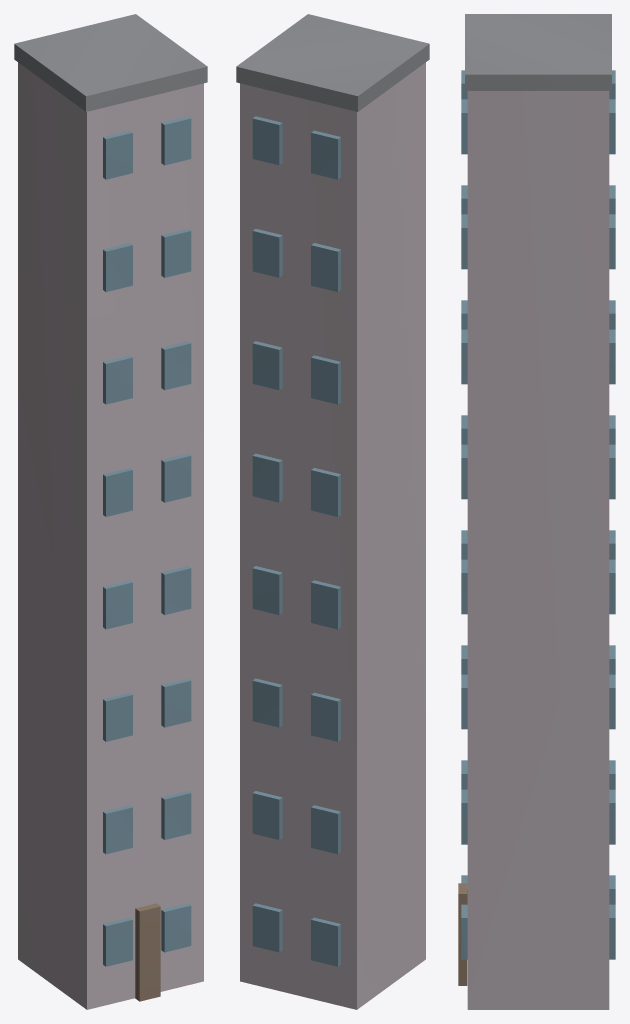
Rendered from lighthouse-03.glb.
3 views of the same model, side by side, from view 1: azimuth 30°, elevation 25°; view 2: azimuth 150°, elevation 25°; view 3: azimuth 270°, elevation 25° (orthographic). The views are drawn at different scales.
Visible parts, largest first — view 1: world; view 2: world; view 3: world.
Boxes of the visible parts, x1,y1,x2,y2 form: world: (14, 14, 207, 1009); world: (236, 14, 429, 1009); world: (458, 14, 615, 1009).
Bounding box in the file's own units: 0.5655 × 4.06 × 0.6192.
